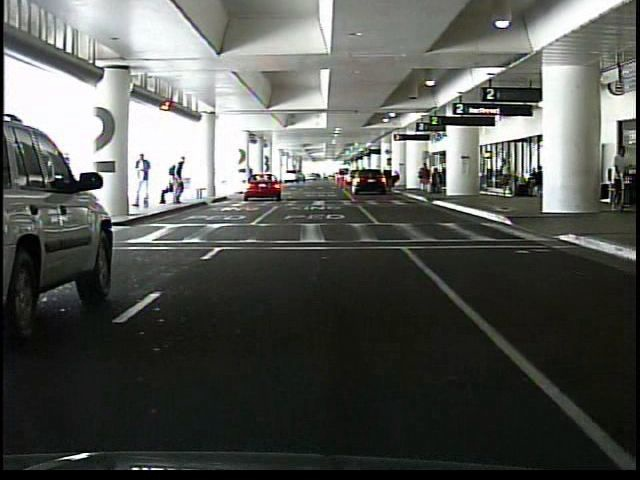person: (167, 159, 190, 205), (135, 153, 152, 209), (158, 171, 184, 207), (416, 163, 432, 196), (612, 144, 628, 177), (499, 159, 511, 198), (437, 167, 438, 193)
